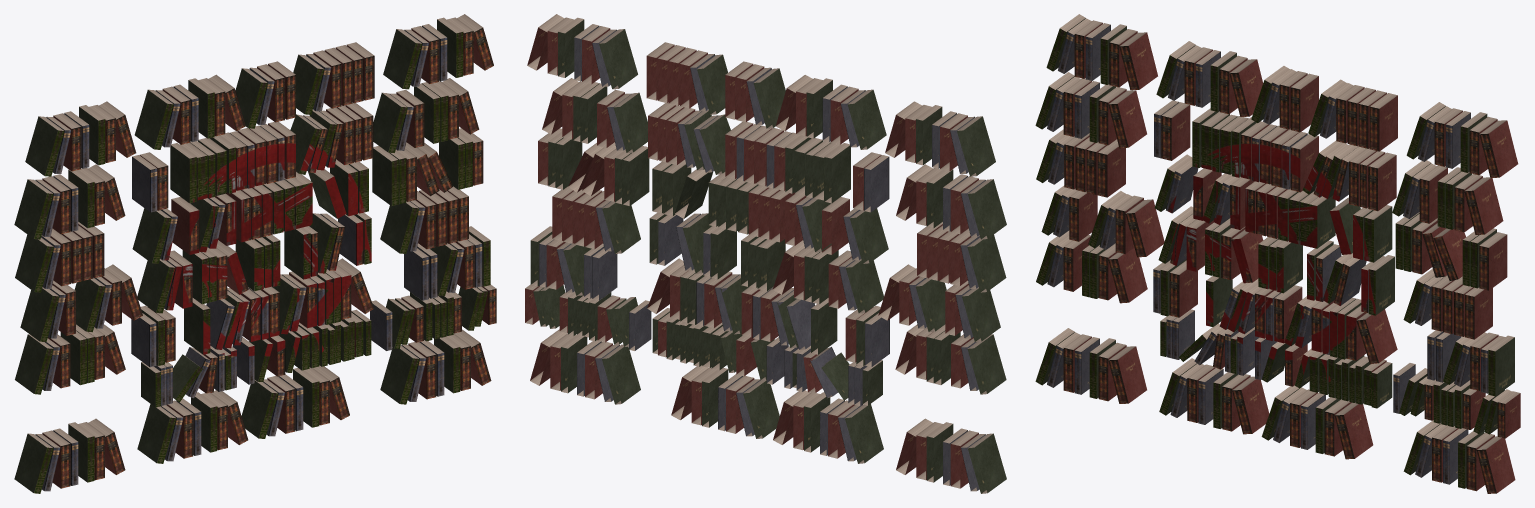
The model's file is Books-02_Mesh.fbx.
3 views of the same model, side by side, from view 1: azimuth 30°, elevation 25°; view 2: azimuth 150°, elevation 25°; view 3: azimuth 330°, elevation 25° (orthographic).
Visible parts, largest first — view 1: books1; view 2: books1; view 3: books1.
Part boxes in pixels (<box>): books1: <box>14,14,496,493</box>; books1: <box>525,14,1006,493</box>; books1: <box>1035,14,1520,493</box>.
Size of the model in its own units: 275 by 203 by 19.86.
1 material, 1 textured.
